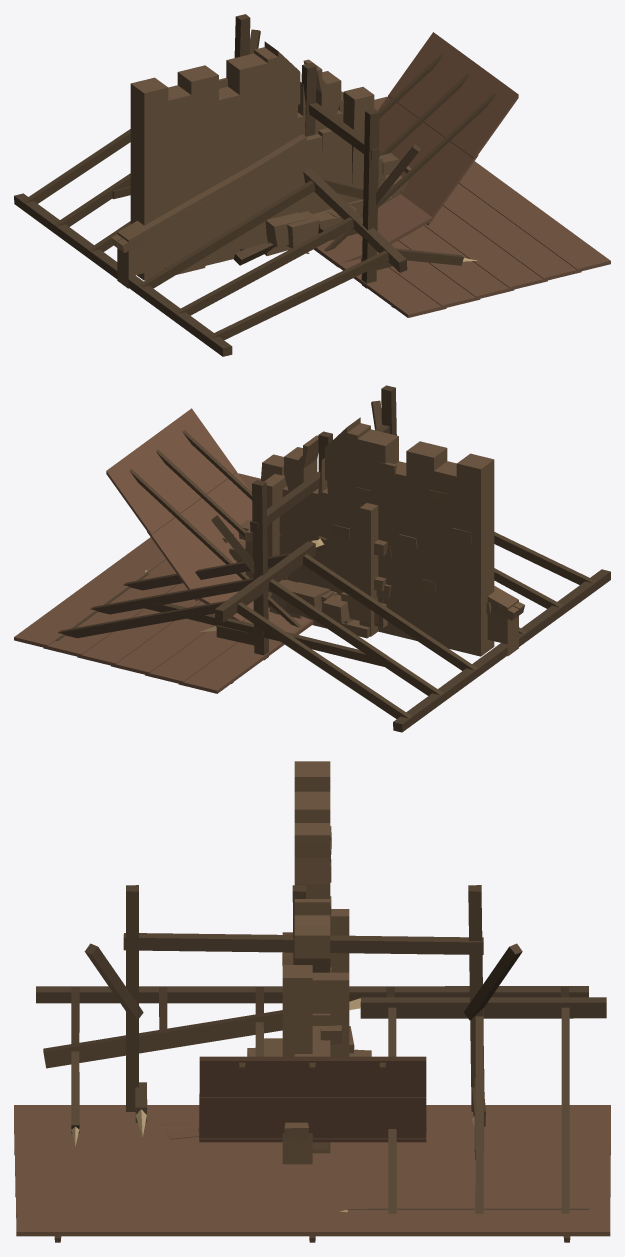
File: SM_Farm_Ruins.glb
3 renders of one model, top to bottom at view 1: azimuth 30°, elevation 25°; view 2: azimuth 150°, elevation 25°; view 3: azimuth 270°, elevation 25°, orthographic. The views are drawn at different scales.
Visible parts, largest first — view 1: SM_Farm_WallBreak_North, SM_Farm_RoofPan_Intact, SM_Farm_RoofPan_Fallen, SM_Farm_GableBreak, SM_Farm_Truss, SM_Farm_InteriorFrame, SM_Farm_Rubble_Wall; view 2: SM_Farm_WallBreak_North, SM_Farm_Truss, SM_Farm_RoofPan_Fallen, SM_Farm_RoofPan_Intact, SM_Farm_InteriorFrame, SM_Farm_Jamb_Door, SM_Farm_GableBreak, SM_Farm_Rubble_Wall, SM_Farm_Jamb_Breach, SM_Farm_JoistStubs; view 3: SM_Farm_RoofPan_Intact, SM_Farm_Truss, SM_Farm_RoofPan_Fallen, SM_Farm_InteriorFrame, SM_Farm_WallBreak_North, SM_Farm_GableBreak, SM_Farm_Jamb_Door, SM_Farm_Rubble_Wall, SM_Farm_JoistStubs.
Boxes of the visible parts, <box> form: SM_Farm_WallBreak_North: <box>130,41,385,280</box>; SM_Farm_RoofPan_Intact: <box>314,96,610,317</box>; SM_Farm_RoofPan_Fallen: <box>314,32,518,267</box>; SM_Farm_GableBreak: <box>111,87,411,288</box>; SM_Farm_Truss: <box>14,129,477,356</box>; SM_Farm_InteriorFrame: <box>234,14,420,288</box>; SM_Farm_Rubble_Wall: <box>233,199,363,265</box>; SM_Farm_WallBreak_North: <box>243,417,494,656</box>; SM_Farm_Truss: <box>56,532,610,732</box>; SM_Farm_RoofPan_Fallen: <box>106,408,312,634</box>; SM_Farm_RoofPan_Intact: <box>14,473,313,693</box>; SM_Farm_InteriorFrame: <box>211,385,396,660</box>; SM_Farm_Jamb_Door: <box>264,474,387,638</box>; SM_Farm_GableBreak: <box>222,454,524,656</box>; SM_Farm_Rubble_Wall: <box>268,576,387,627</box>; SM_Farm_Jamb_Breach: <box>268,528,378,636</box>; SM_Farm_JoistStubs: <box>200,592,271,645</box>; SM_Farm_RoofPan_Intact: <box>14,1105,610,1242</box>; SM_Farm_Truss: <box>36,986,606,1213</box>; SM_Farm_RoofPan_Fallen: <box>162,1056,426,1142</box>; SM_Farm_InteriorFrame: <box>84,885,522,1111</box>; SM_Farm_WallBreak_North: <box>294,761,331,1153</box>; SM_Farm_GableBreak: <box>282,932,312,1164</box>; SM_Farm_Jamb_Door: <box>312,909,349,1056</box>; SM_Farm_Rubble_Wall: <box>247,1026,371,1056</box>; SM_Farm_JoistStubs: <box>135,1082,485,1136</box>.
Size of the model in its own units: 6.76 by 3.28 by 6.8.
